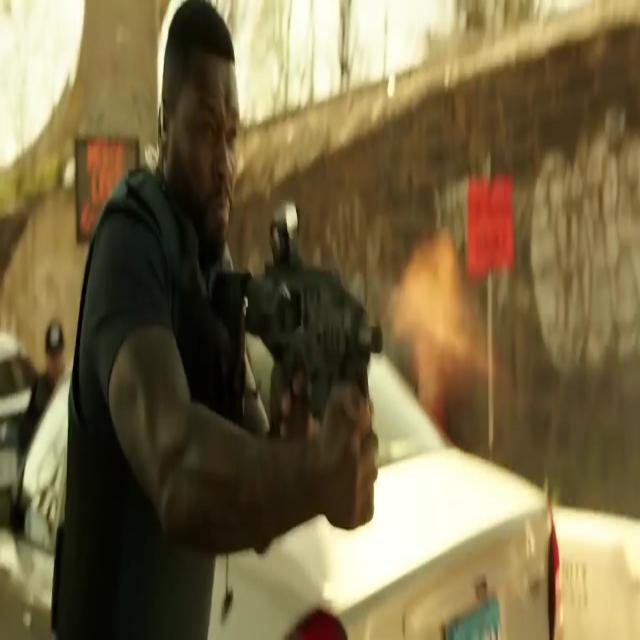Weapon: (204, 209, 379, 452)
